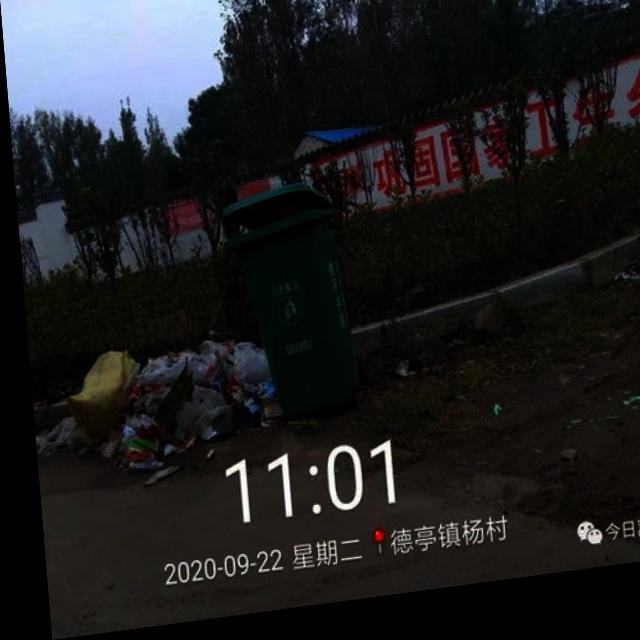garbage: (23, 333, 275, 497)
overflow: (215, 184, 350, 433)
